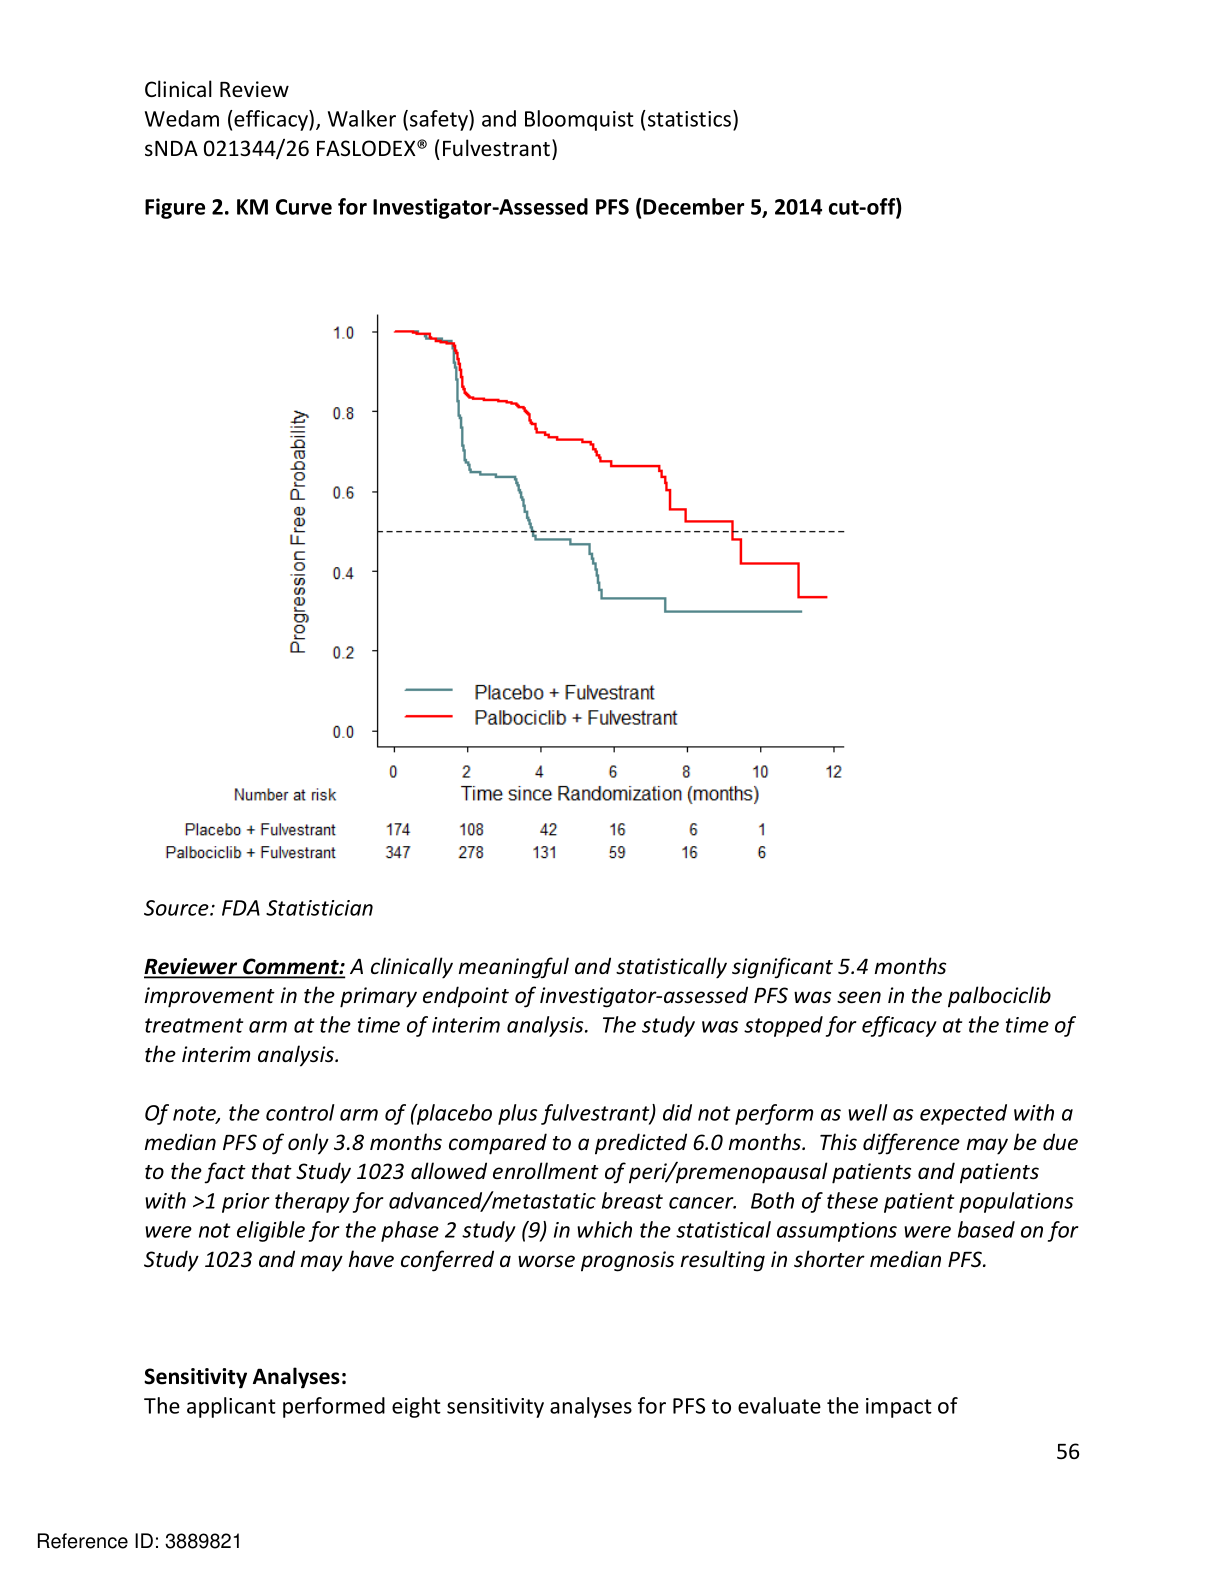nolines: (165, 819, 770, 861)
